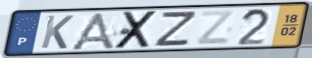2: (235, 7, 274, 46)
A: (67, 10, 118, 51)
K: (38, 14, 76, 50)
X: (112, 9, 161, 51)
Z: (152, 9, 200, 48), (194, 9, 237, 46)
